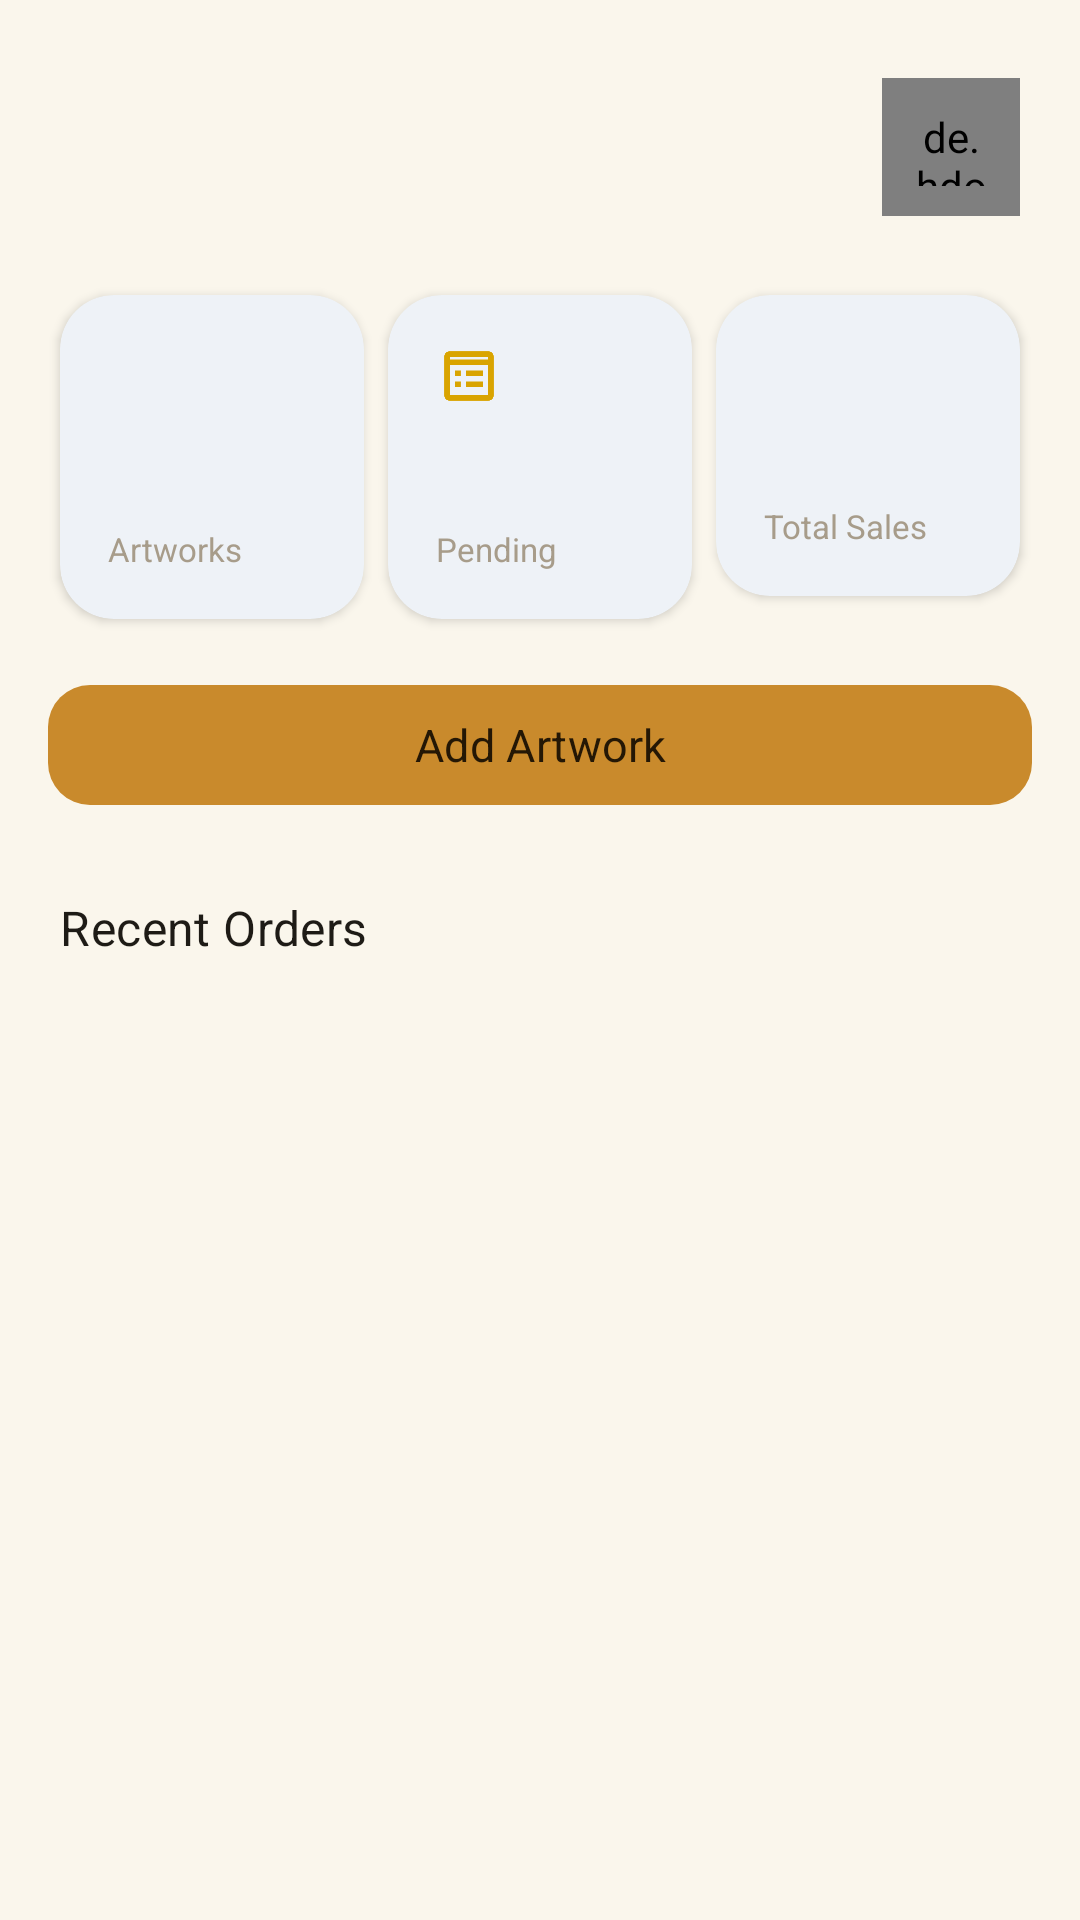

Icons on this 1080 × 1920 Android screen, each with its box as (x1, y1, x2, y2):
orders: (444, 351, 494, 401)
